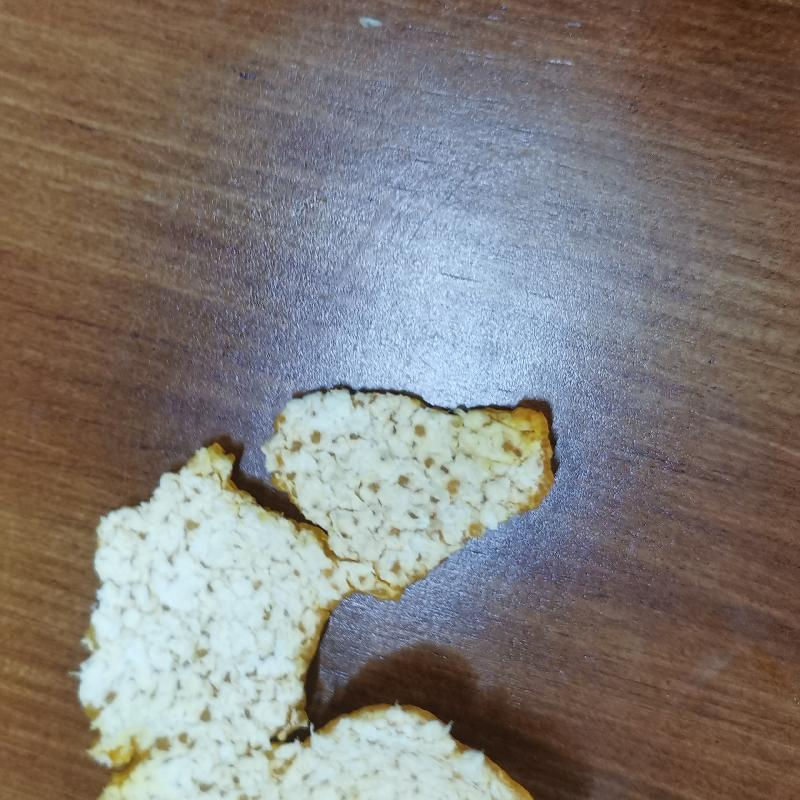orange: (69, 383, 562, 800)
